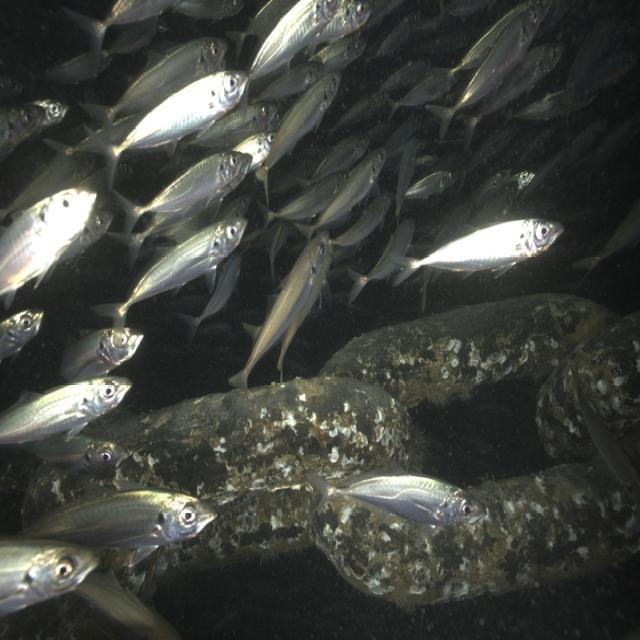ChainLink: (311, 460, 640, 607), (94, 376, 412, 503), (321, 294, 618, 407), (536, 313, 640, 462), (154, 487, 314, 577), (24, 468, 88, 526)
